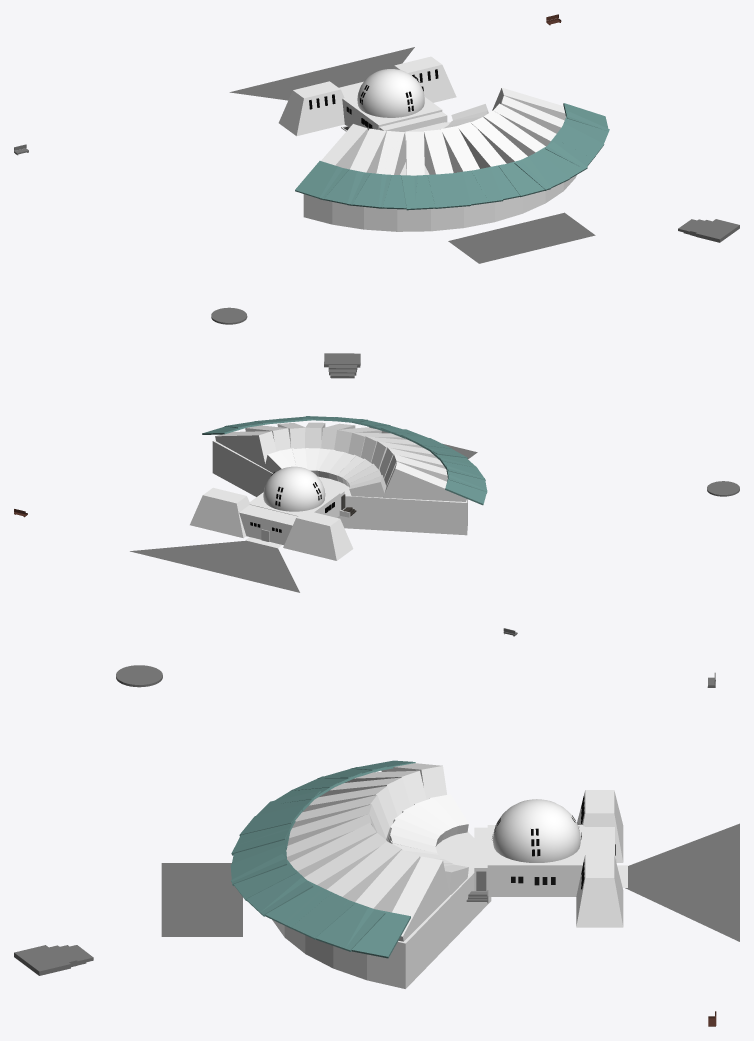
File: asmundarsafn_cpy_to_test_18.obj
The picture shows the model from 3 angles, top to bottom: view 1: azimuth 30°, elevation 25°; view 2: azimuth 150°, elevation 25°; view 3: azimuth 270°, elevation 25°; orthographic projection. The views are drawn at different scales.
Parts seen in each view (by area): view 1: Cube.047, Cube.033, syningarsalur, Plane.035, pavement, Sphere, h_hlid, v_hlid, innanhus, Cube, Cube.019, Cylinder; view 2: Cube.033, syningarsalur, pavement, Cube.047, h_hlid, Sphere, v_hlid, adaldyr, Cube, innanhus; view 3: Cube.033, Cube.047, pavement, syningarsalur, Plane.035, Sphere, innanhus, v_hlid, h_hlid, Cube, adaldyr, Cylinder (+1 smaller).
Boxes of the visible parts, x1,y1,x2,y2 form: Cube.047: (295, 103, 609, 210); Cube.033: (321, 87, 565, 175); syningarsalur: (303, 122, 576, 231); Plane.035: (448, 212, 595, 263); pavement: (229, 47, 414, 100); Sphere: (357, 69, 424, 117); h_hlid: (278, 81, 344, 136); v_hlid: (393, 56, 456, 102); innanhus: (342, 94, 442, 130); Cube: (678, 219, 739, 242); Cube.019: (379, 112, 447, 131); Cylinder: (211, 307, 247, 324); Cube.033: (215, 422, 466, 501); syningarsalur: (212, 440, 467, 535); pavement: (130, 540, 299, 592); Cube.047: (202, 416, 487, 505); h_hlid: (283, 510, 353, 560); Sphere: (263, 466, 325, 511); v_hlid: (190, 487, 250, 538); adaldyr: (239, 505, 297, 545); Cube: (324, 353, 360, 378); innanhus: (250, 489, 340, 517); Cube.033: (286, 763, 468, 941); Cube.047: (230, 760, 415, 958); pavement: (625, 823, 739, 941); syningarsalur: (272, 831, 491, 988); Plane.035: (161, 863, 242, 936); Sphere: (493, 799, 580, 862); innanhus: (487, 825, 584, 896); v_hlid: (576, 854, 623, 927); h_hlid: (577, 790, 623, 862); Cube: (14, 945, 93, 975); adaldyr: (584, 827, 614, 856); Cylinder: (116, 665, 162, 687).
Size of the model in its own units: 72.47 by 9.13 by 61.73.
